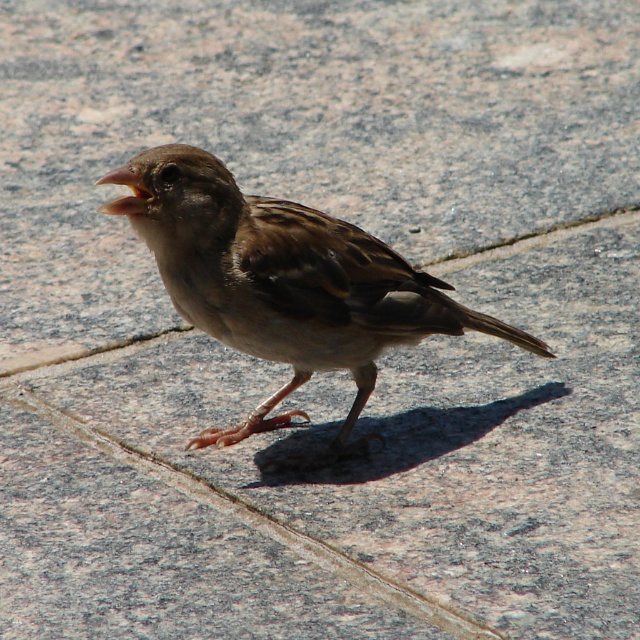Sparrow: (89, 147, 563, 468)
